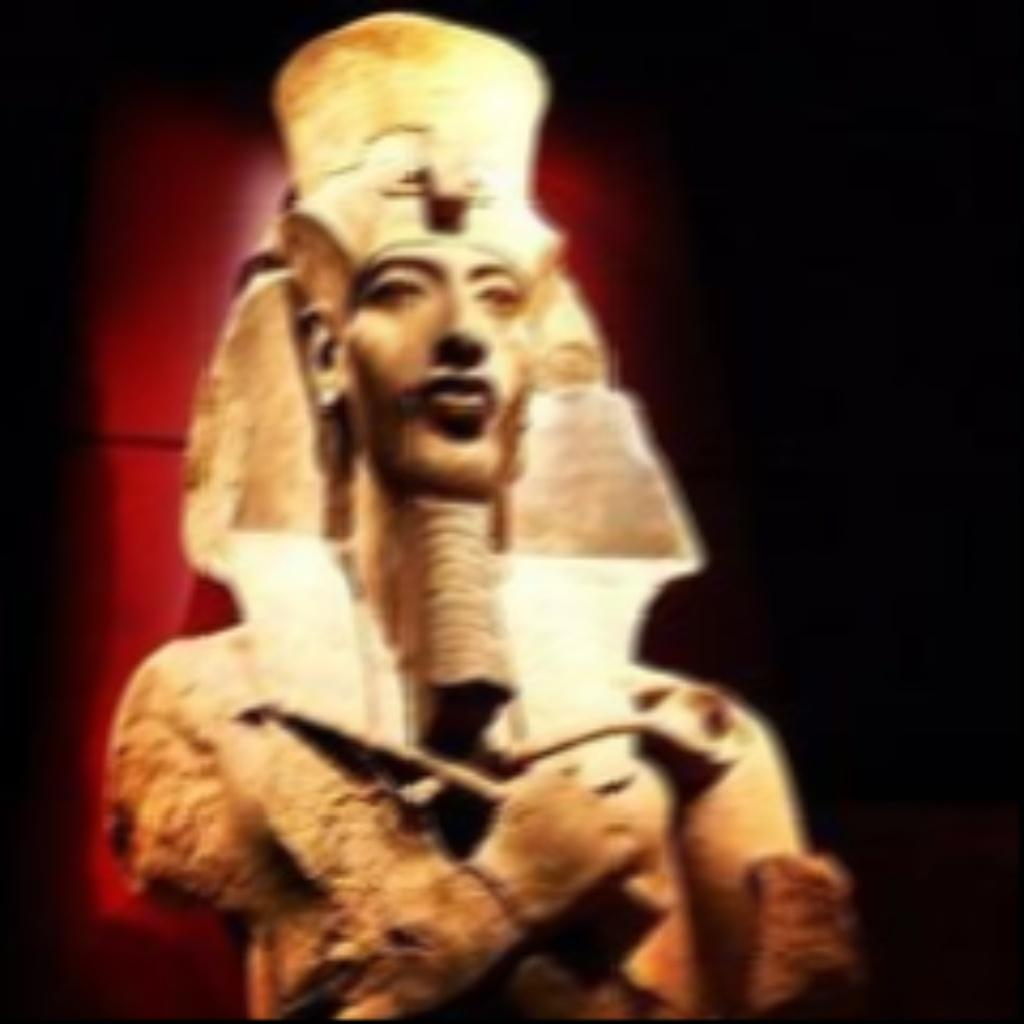Akhenaten: (102, 4, 892, 1016)
